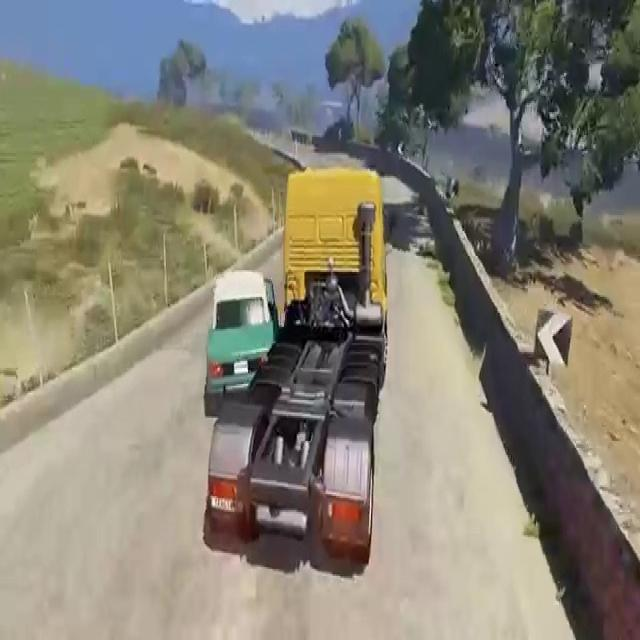moderate: (198, 152, 393, 578)
